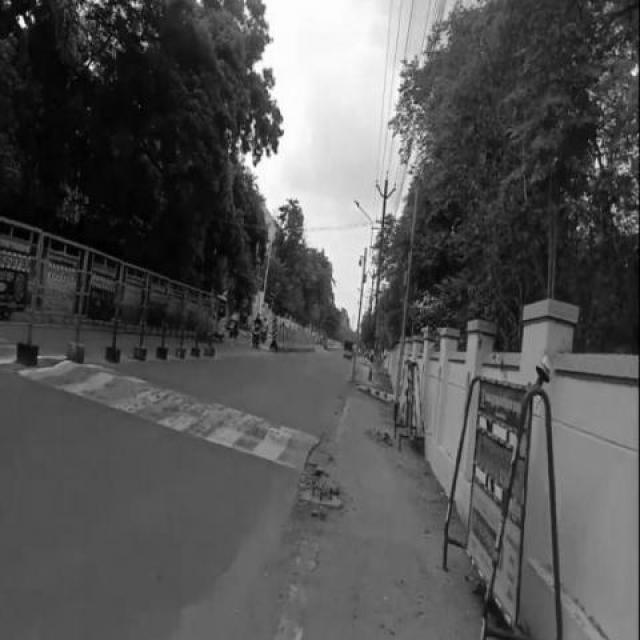Speed Bump: (14, 364, 320, 476), (0, 331, 18, 366)
